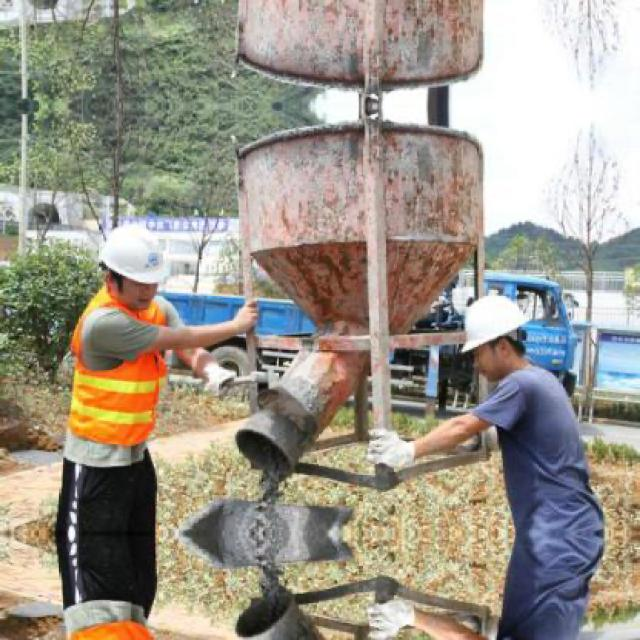con casco: (63, 213, 191, 341), (450, 282, 547, 409)
